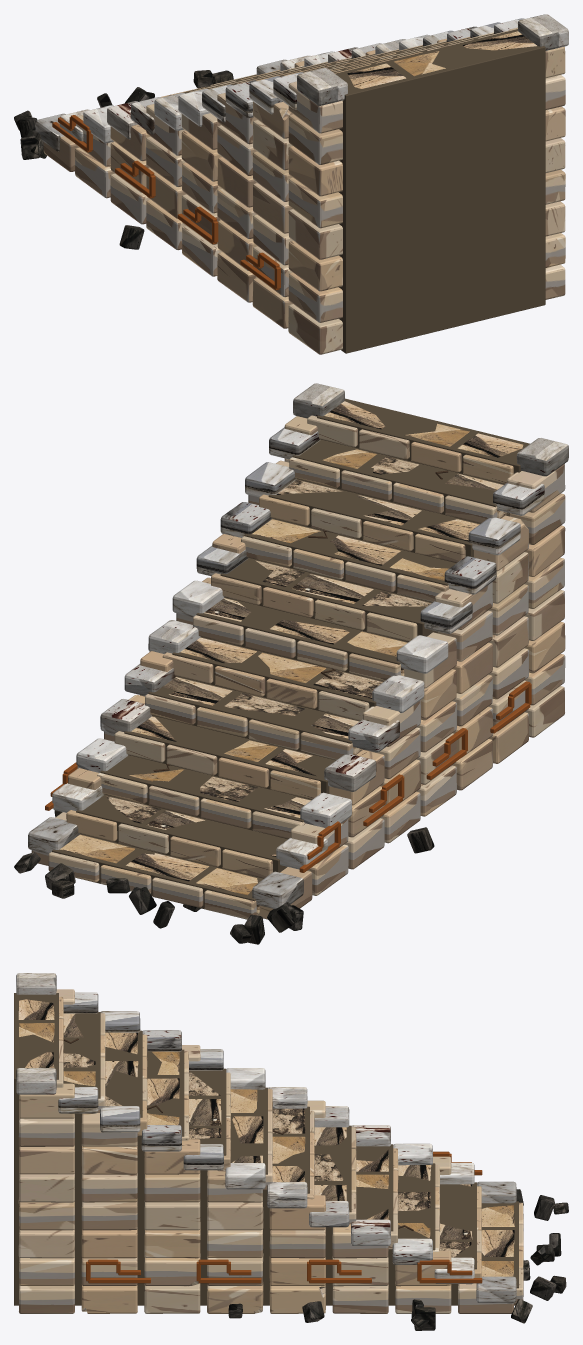
The model's file is stairs_stone_narrow_2m_LOD0.glb.
The picture shows the model from 3 angles, top to bottom: view 1: azimuth 30°, elevation 25°; view 2: azimuth 150°, elevation 25°; view 3: azimuth 270°, elevation 25°; orthographic projection. The views are drawn at different scales.
Parts seen in each view (by area): view 1: MortarCore.011, SideAshlar.028, SideAshlar.032, SideAshlar.030, SideAshlar.034, SideAshlar.031, SideAshlar.033, SideAshlar.029, CurbCap.011, SideAshlar.035, CurbCap.023, SideAshlar.013 (+49 smaller); view 2: MortarCore.001, MortarCore.010, MortarCore.003, MortarCore.002, MortarCore.009, MortarCore.011, MortarCore.007, MortarCore.006, MortarCore.008, MortarCore.004, MortarCore.005, MortarCore (+127 smaller); view 3: MortarCore.010, MortarCore.011, MortarCore.009, MortarCore.001, MortarCore.003, MortarCore.007, MortarCore.008, MortarCore.002, MortarCore.006, MortarCore.004, SideAshlar.055, SideAshlar.062 (+81 smaller).
Boxes of the visible parts, x1,y1,x2,y2 form: MortarCore.011: (335,29,545,353); SideAshlar.028: (288,304,342,354); SideAshlar.032: (288,177,342,228); SideAshlar.030: (288,241,342,291); SideAshlar.034: (288,114,342,164); SideAshlar.031: (288,209,342,259); SideAshlar.033: (288,146,342,196); SideAshlar.029: (288,272,342,322); CurbCap.011: (297,68,347,105); SideAshlar.035: (288,81,342,133); CurbCap.023: (518,14,568,50); SideAshlar.013: (181,131,221,181); MortarCore.001: (76,794,287,878); MortarCore.010: (292,439,509,523); MortarCore.003: (124,715,335,799); MortarCore.002: (100,755,311,839); MortarCore.009: (268,479,480,563); MortarCore.011: (317,398,529,484); MortarCore.007: (220,557,437,641); MortarCore.006: (196,597,408,681); MortarCore.008: (244,518,456,602); MortarCore.004: (148,676,365,760); MortarCore.005: (172,637,383,720); MortarCore: (52,834,263,919); MortarCore.010: (63,1012,100,1305); MortarCore.011: (14,993,58,1305); MortarCore.009: (105,1030,142,1305); MortarCore.001: (440,1182,476,1305); MortarCore.003: (356,1144,393,1305); MortarCore.007: (189,1068,226,1305); MortarCore.008: (140,1049,184,1305); MortarCore.002: (391,1163,435,1305); MortarCore.006: (230,1087,267,1305); MortarCore.004: (314,1125,351,1305); SideAshlar.055: (144,1173,200,1202); SideAshlar.062: (81,1145,137,1174).
Size of the model in its own units: 2.48 by 2.15 by 4.42.
Materials: 8 (4 with a texture image).
